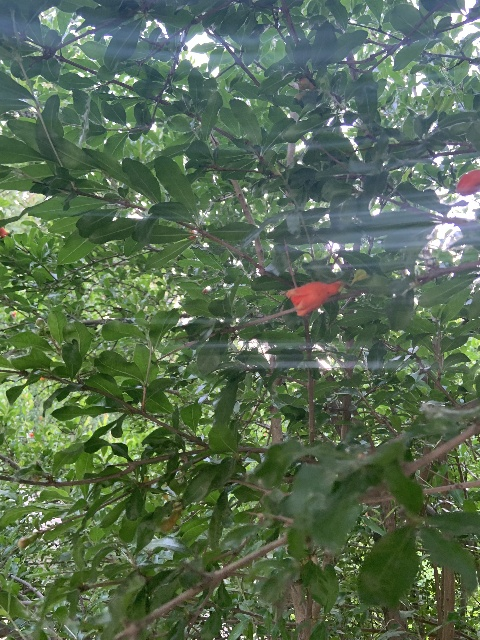bud: (455, 169, 480, 195)
flower: (285, 280, 340, 316)
